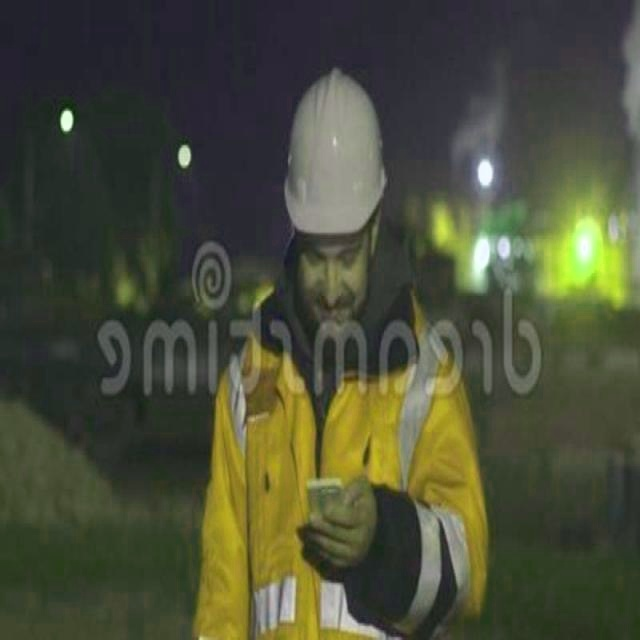Con_Casco: (284, 70, 386, 319)
